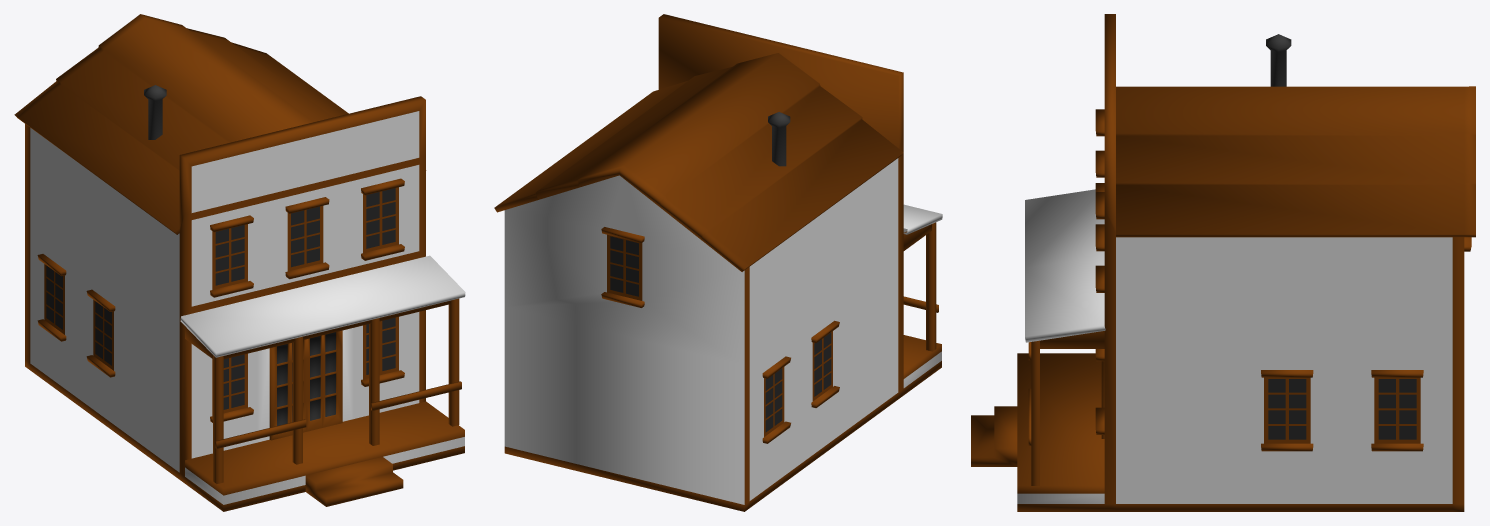
The model's file is Western_BankWhite.fbx.
The picture shows the model from 3 angles, left to right: view 1: azimuth 30°, elevation 25°; view 2: azimuth 150°, elevation 25°; view 3: azimuth 270°, elevation 25°; orthographic projection. The views are drawn at different scales.
Visible parts, largest first — view 1: WesternBuilding_Bank_White; view 2: WesternBuilding_Bank_White; view 3: WesternBuilding_Bank_White.
Part boxes in pixels (box(x1,y1,x2,y2)): WesternBuilding_Bank_White: box(14, 14, 465, 511); WesternBuilding_Bank_White: box(494, 14, 942, 511); WesternBuilding_Bank_White: box(971, 14, 1475, 511).
Bounding box in the file's own units: 565 × 707 × 870.
Materials: 1 (1 with a texture image).
